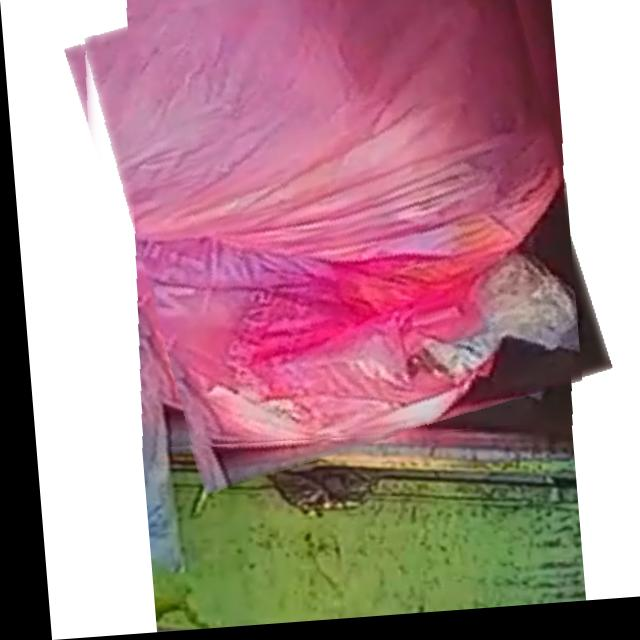other_trashbag: (80, 0, 571, 445)
